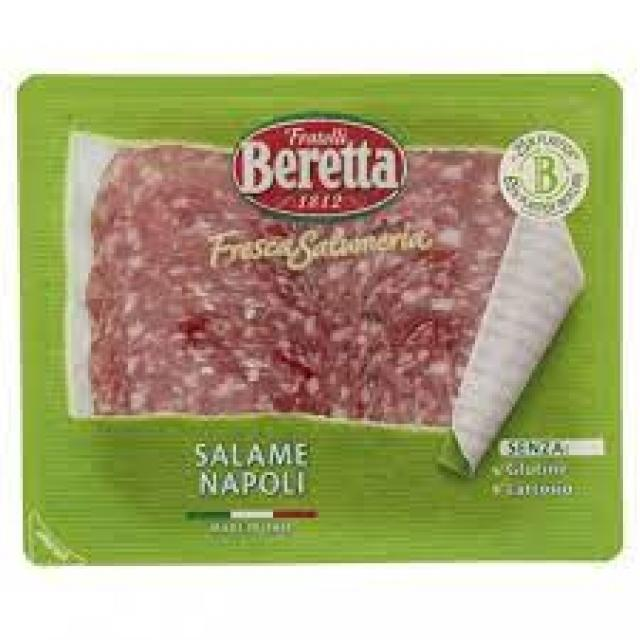Ham: (17, 69, 625, 560)
